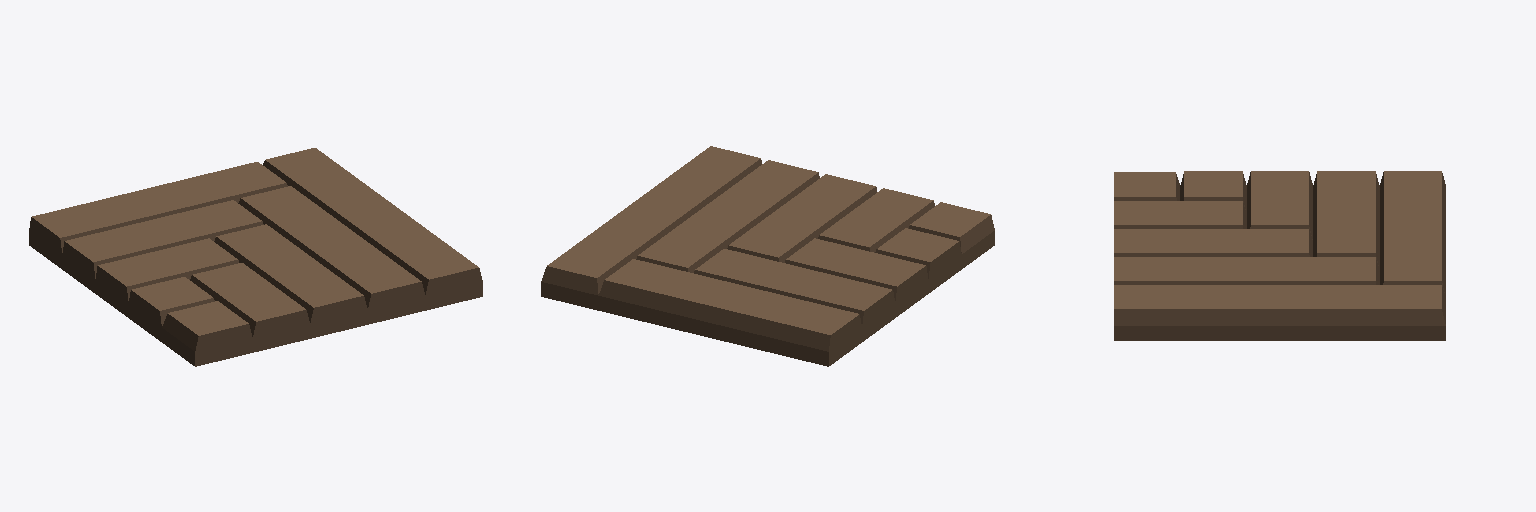
Rendered from Wood_Floor_Corner.obj.
3 renders of one model, left to right at view 1: azimuth 30°, elevation 25°; view 2: azimuth 150°, elevation 25°; view 3: azimuth 270°, elevation 25°, orthographic.
Parts seen in each view (by area): view 1: object1; view 2: object1; view 3: object1.
Boxes of the visible parts, x1=… form: object1: x1=29, y1=148, x2=482, y2=366; object1: x1=541, y1=146, x2=994, y2=366; object1: x1=1114, y1=171, x2=1445, y2=340.
Bounding box in the file's own units: 1 × 0.1 × 1.